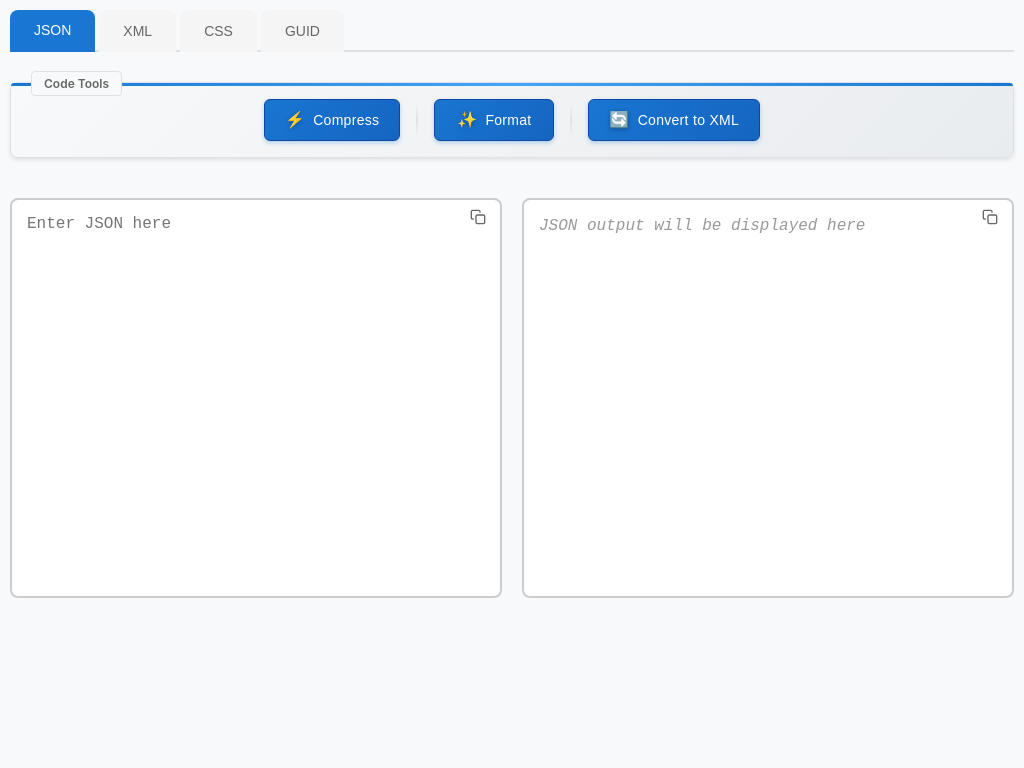
Test: switches to XML tab
This screenshot has width=1024, height=768.
Click the button "XML".
click(138, 31)  # box [99, 10, 176, 52]
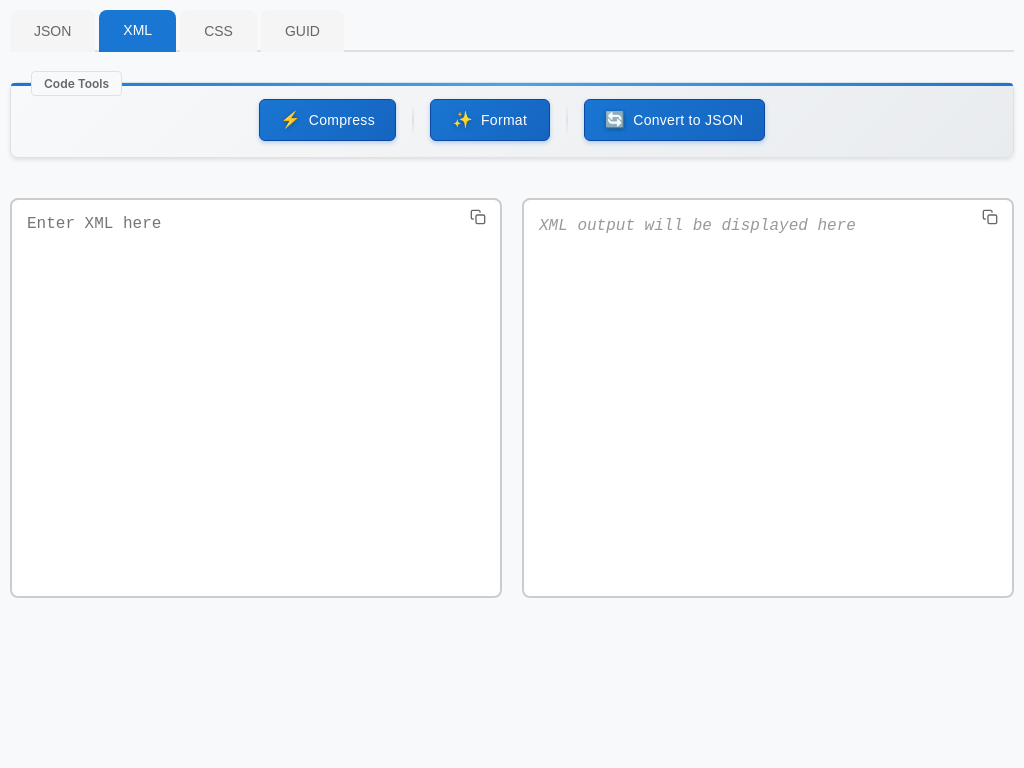
Now the text box with placeholder "Enter XML here" is shown, box [10, 198, 502, 598]
Now the text "XML output will be displayed here" is shown, box [539, 217, 856, 235]
